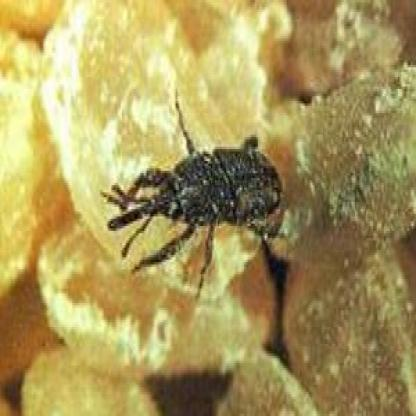rice-bug: (113, 102, 281, 285)
